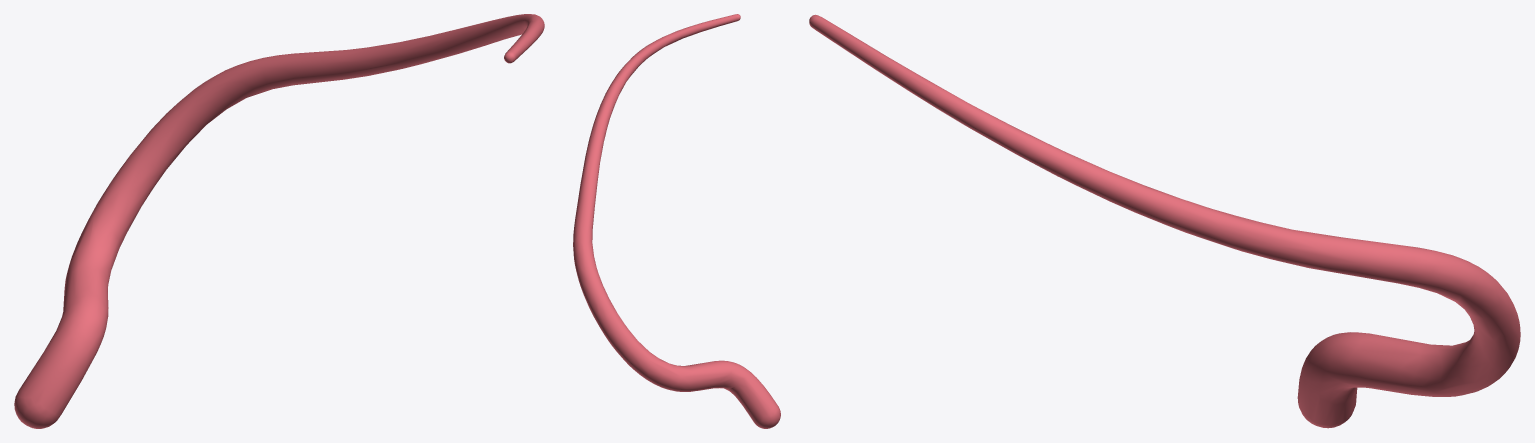
The model's file is fma43893_fj2076.glb.
3 renders of one model, left to right at view 1: azimuth 30°, elevation 25°; view 2: azimuth 150°, elevation 25°; view 3: azimuth 270°, elevation 25°, orthographic. The views are drawn at different scales.
Parts seen in each view (by area): view 1: FMA43893_FJ2076; view 2: FMA43893_FJ2076; view 3: FMA43893_FJ2076.
Part boxes in pixels (<box>): FMA43893_FJ2076: <box>14,14,544,428</box>; FMA43893_FJ2076: <box>573,14,780,428</box>; FMA43893_FJ2076: <box>809,14,1520,428</box>.
Size of the model in its own units: 0.0365 by 0.0417 by 0.0478.
